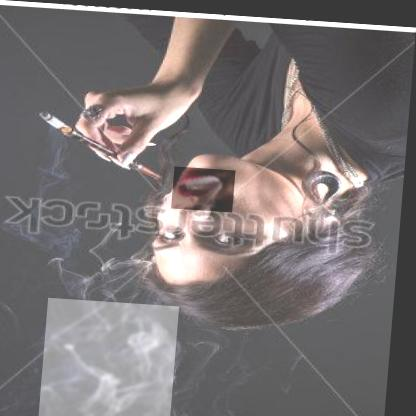smoke: (46, 297, 184, 416), (174, 164, 238, 209)
